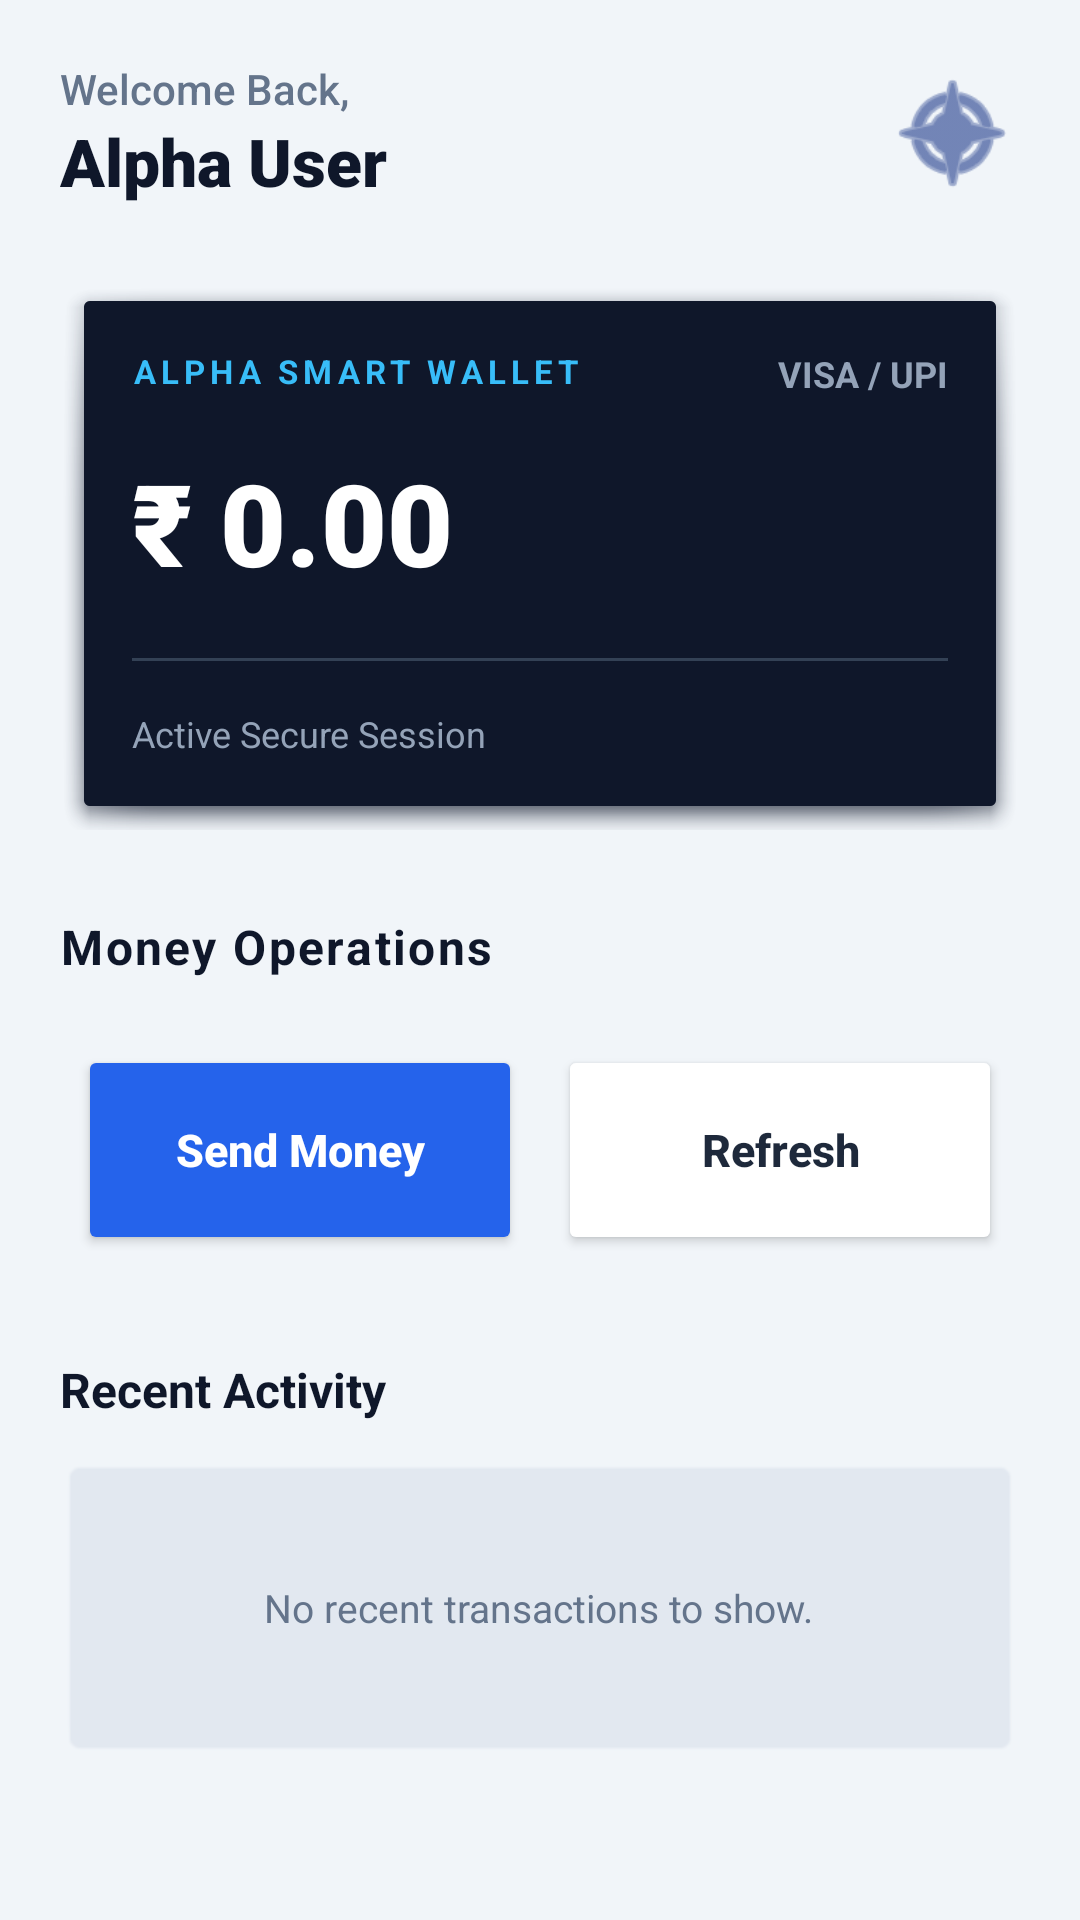

Locate icon controls on the screen. Image size 1080 x 1920, boxes as (x1, y1, x2, y2).
compass: (899, 80, 1005, 186)
